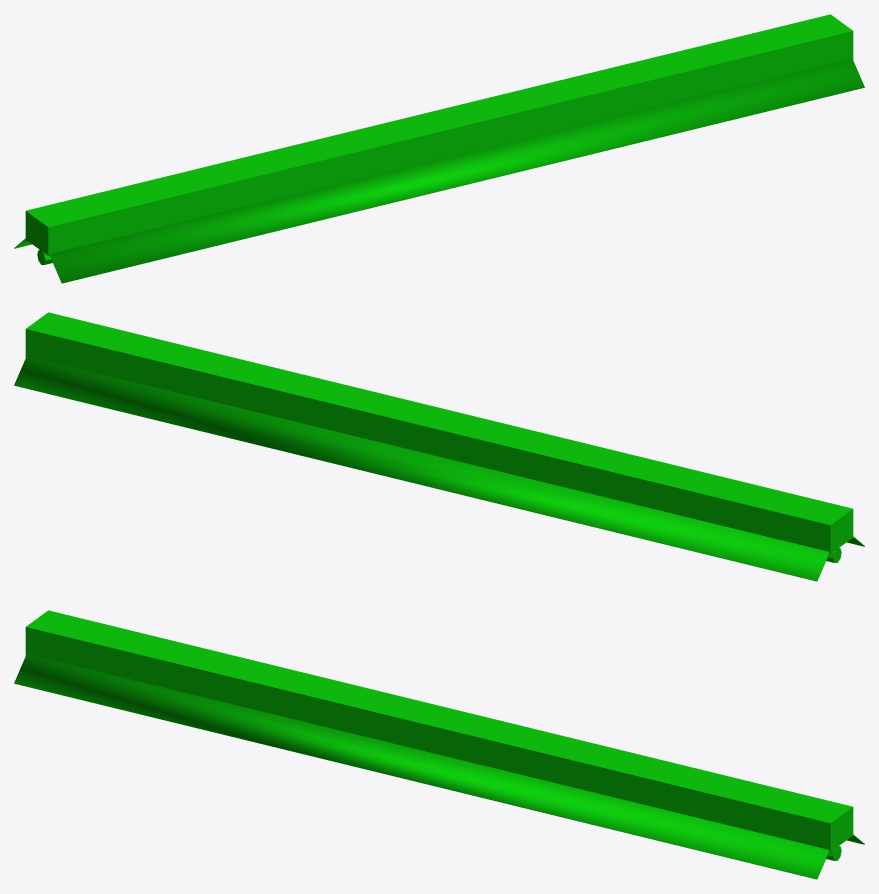
Rendered from UCX_CeilingLight3.fbx.
3 renders of one model, top to bottom at view 1: azimuth 30°, elevation 25°; view 2: azimuth 150°, elevation 25°; view 3: azimuth 330°, elevation 25°, orthographic.
Visible parts, largest first — view 1: UCX_CeilingLight3; view 2: UCX_CeilingLight3; view 3: UCX_CeilingLight3.
Boxes of the visible parts, x1,y1,x2,y2 form: UCX_CeilingLight3: (14,14,864,283); UCX_CeilingLight3: (14,312,864,581); UCX_CeilingLight3: (14,610,864,879).
Bounding box in the file's own units: 1.26 × 0.0709 × 0.13.
